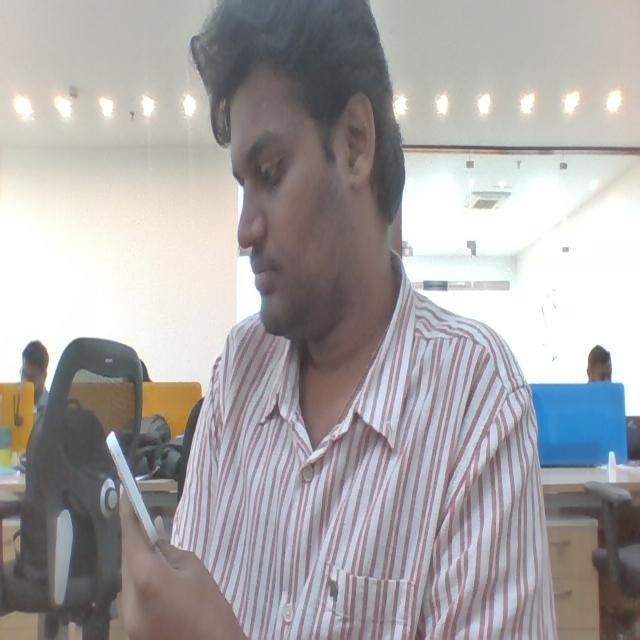phone: (101, 414, 163, 545)
